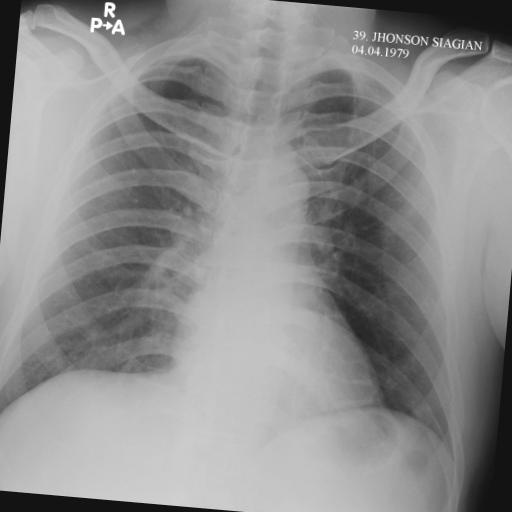normal: (0, 0, 501, 468)
